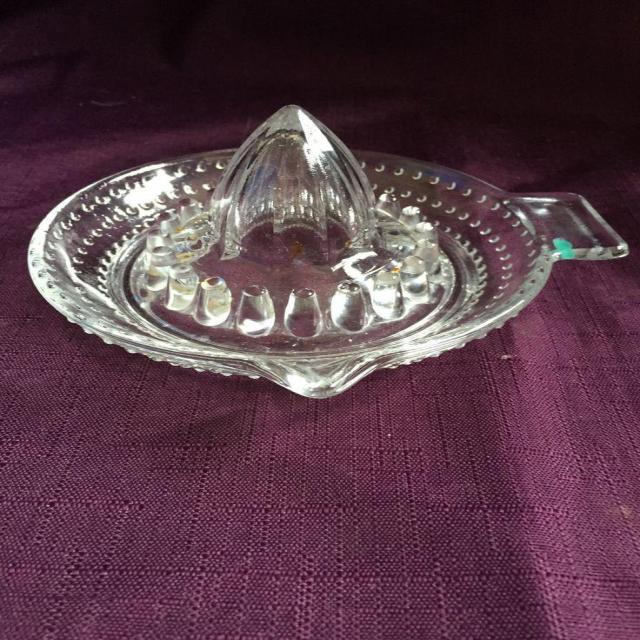non-organic waste: (16, 97, 634, 405)
